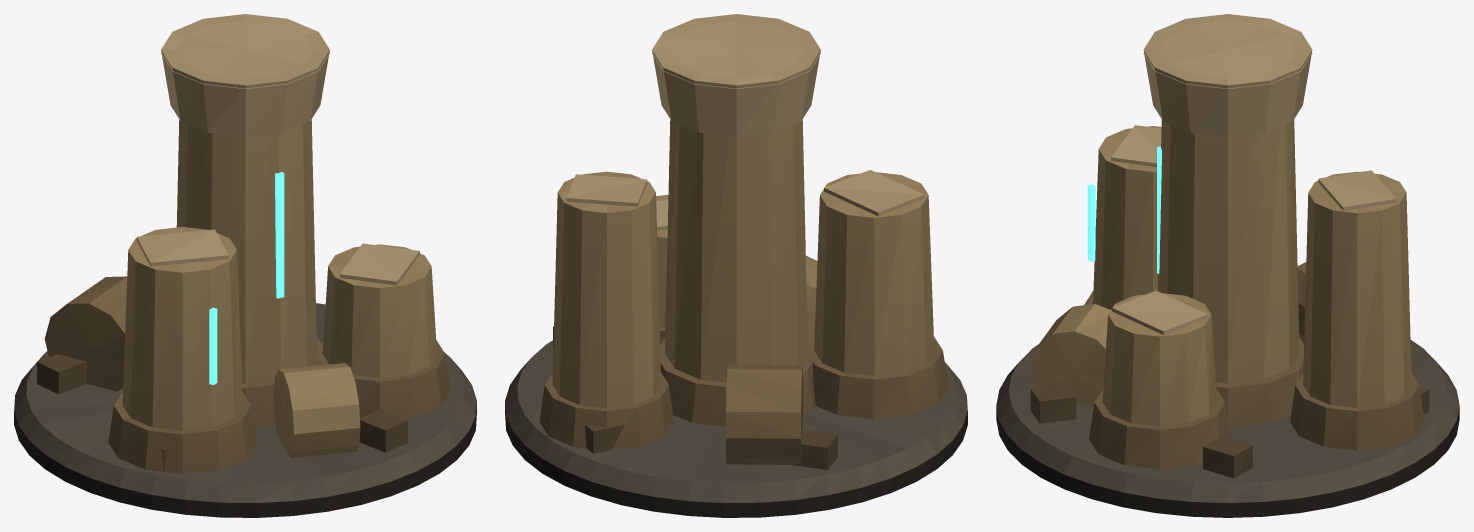
The model's file is temple-broken-pillars.glb.
3 views of the same model, side by side, from view 1: azimuth 30°, elevation 25°; view 2: azimuth 150°, elevation 25°; view 3: azimuth 270°, elevation 25° (orthographic).
Size of the model in its own units: 3.4 by 3 by 3.4.
